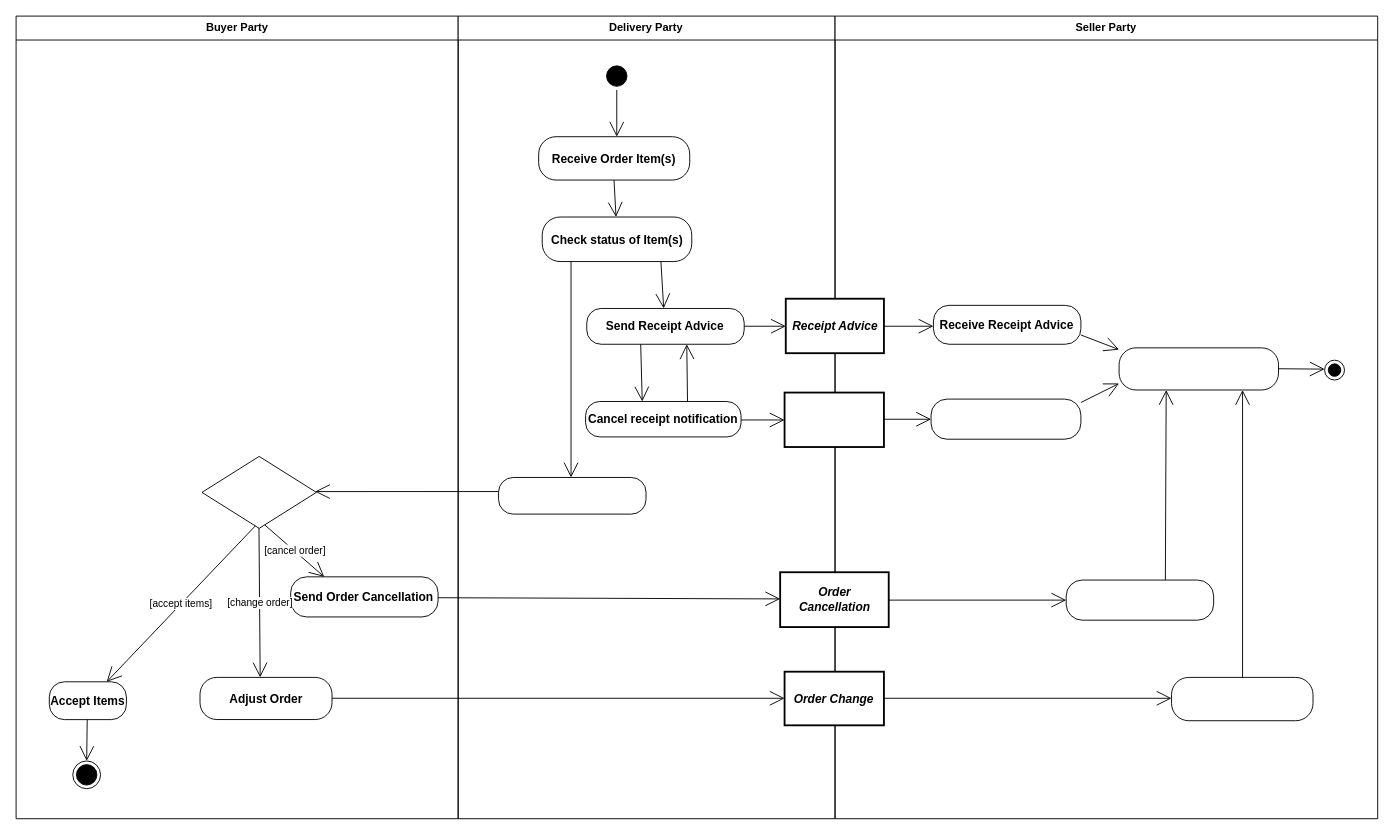
The diagram is 1394 pixels wide and 835 high, and some of its shapes have lost their labels. The shapes that lost their labels are listed below. From the top down, each one's centre as x and y in pixels, then its label:
At pixel 1198 368: "Adjust supply status".
At pixel 833 419: "Fulfilment Cancellation".
At pixel 1005 418: "Receive Fulfilment Cancellation".
At pixel 258 491: "Determine Action".
At pixel 572 495: "Advise Buyer of status".
At pixel 1139 599: "Cancel order".
At pixel 1242 698: "Change Order".
